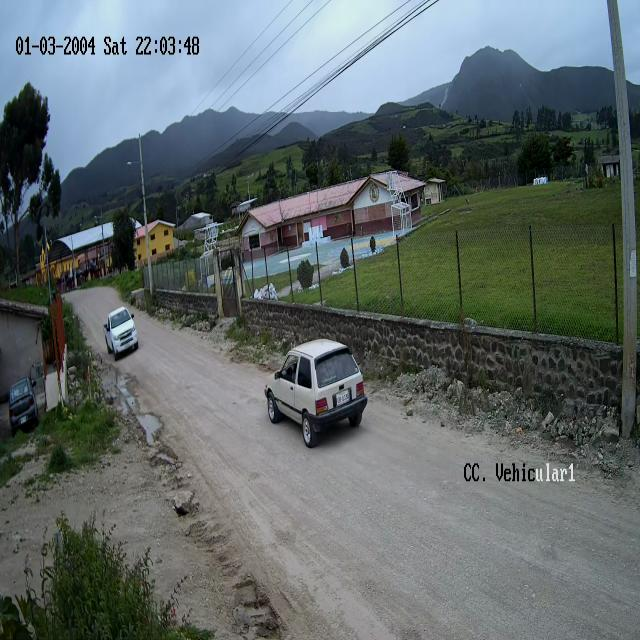SED: (265, 339, 368, 450)
